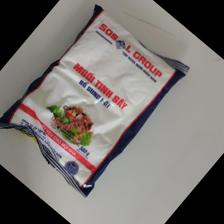Salt: (1, 4, 191, 197)
